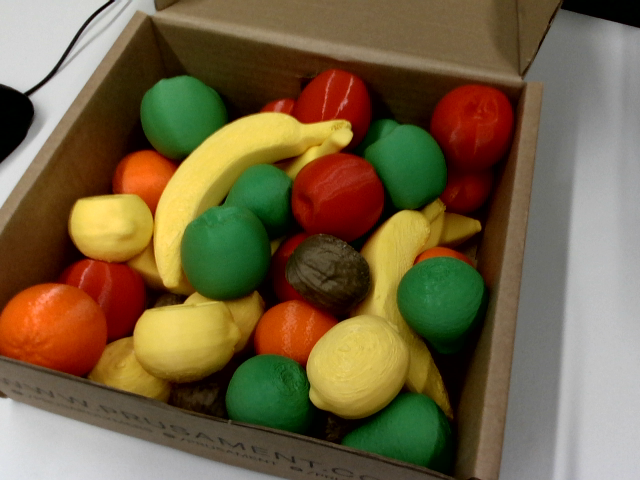banana: (111, 60, 352, 291), (339, 207, 453, 428), (275, 122, 357, 183)
green apple: (380, 237, 504, 361), (123, 57, 235, 168), (339, 379, 465, 474), (359, 113, 461, 219), (221, 346, 326, 436), (218, 152, 315, 247), (179, 203, 272, 301)
lemon: (284, 297, 429, 441), (127, 293, 247, 390), (87, 327, 183, 407), (68, 194, 153, 261)
orange: (0, 270, 118, 380), (245, 287, 339, 379), (105, 138, 179, 213), (414, 243, 476, 270)
red apple: (276, 137, 398, 258), (417, 68, 532, 184), (51, 235, 165, 349), (288, 56, 390, 156)
walnut: (274, 220, 384, 327), (168, 351, 237, 417)
